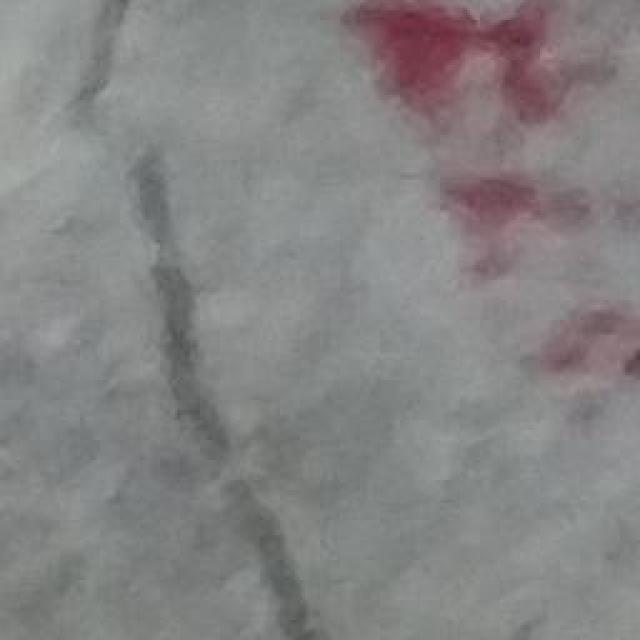Longitudinal: (45, 0, 325, 640)
